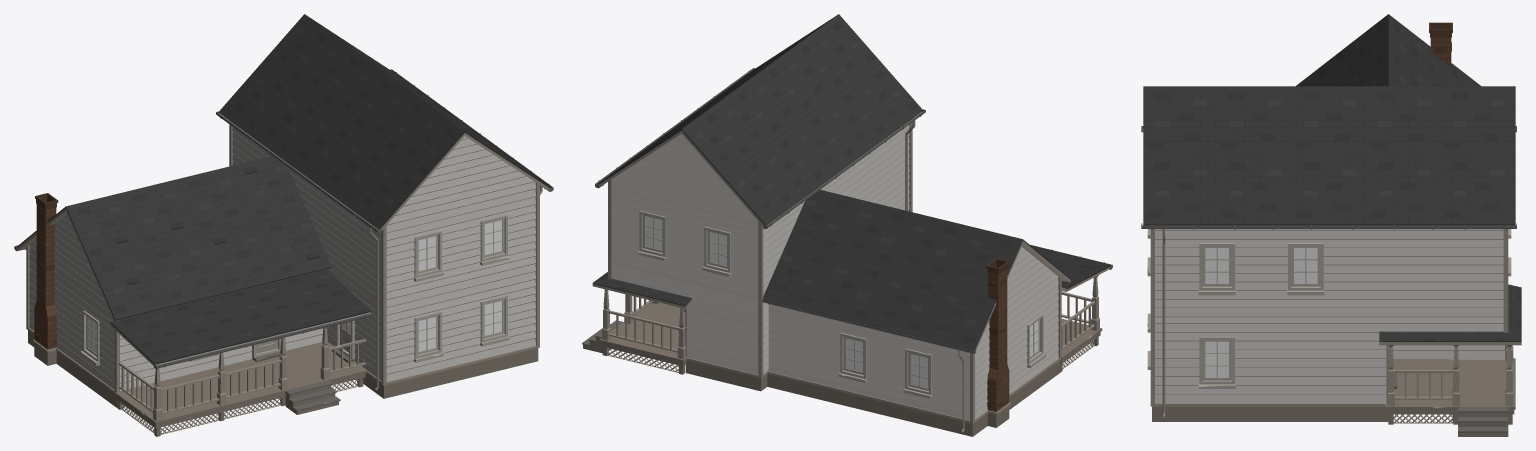
File: SM_Bldg_Farm_House_01.fbx
The picture shows the model from 3 angles, left to right: view 1: azimuth 30°, elevation 25°; view 2: azimuth 150°, elevation 25°; view 3: azimuth 270°, elevation 25°; orthographic projection. The views are drawn at different scales.
Visible parts, largest first — view 1: SM_Bldg_Farm_House_01, SM_Bldg_Farm_House_01_Glass; view 2: SM_Bldg_Farm_House_01, SM_Bldg_Farm_House_01_Glass; view 3: SM_Bldg_Farm_House_01, SM_Bldg_Farm_House_01_Glass.
Boxes of the visible parts, x1=… form: SM_Bldg_Farm_House_01: x1=14, y1=14, x2=553, y2=436; SM_Bldg_Farm_House_01_Glass: x1=88, y1=220, x2=501, y2=353; SM_Bldg_Farm_House_01: x1=582, y1=14, x2=1112, y2=436; SM_Bldg_Farm_House_01_Glass: x1=645, y1=216, x2=1038, y2=388; SM_Bldg_Farm_House_01: x1=1141, y1=14, x2=1521, y2=436; SM_Bldg_Farm_House_01_Glass: x1=1205, y1=248, x2=1317, y2=377.
Size of the model in its own units: 1820 by 1090 by 1286.
